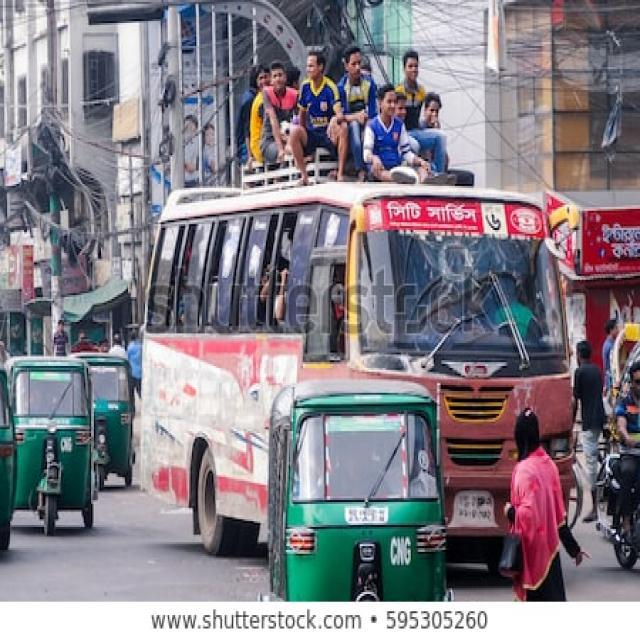bus: (139, 182, 577, 559)
